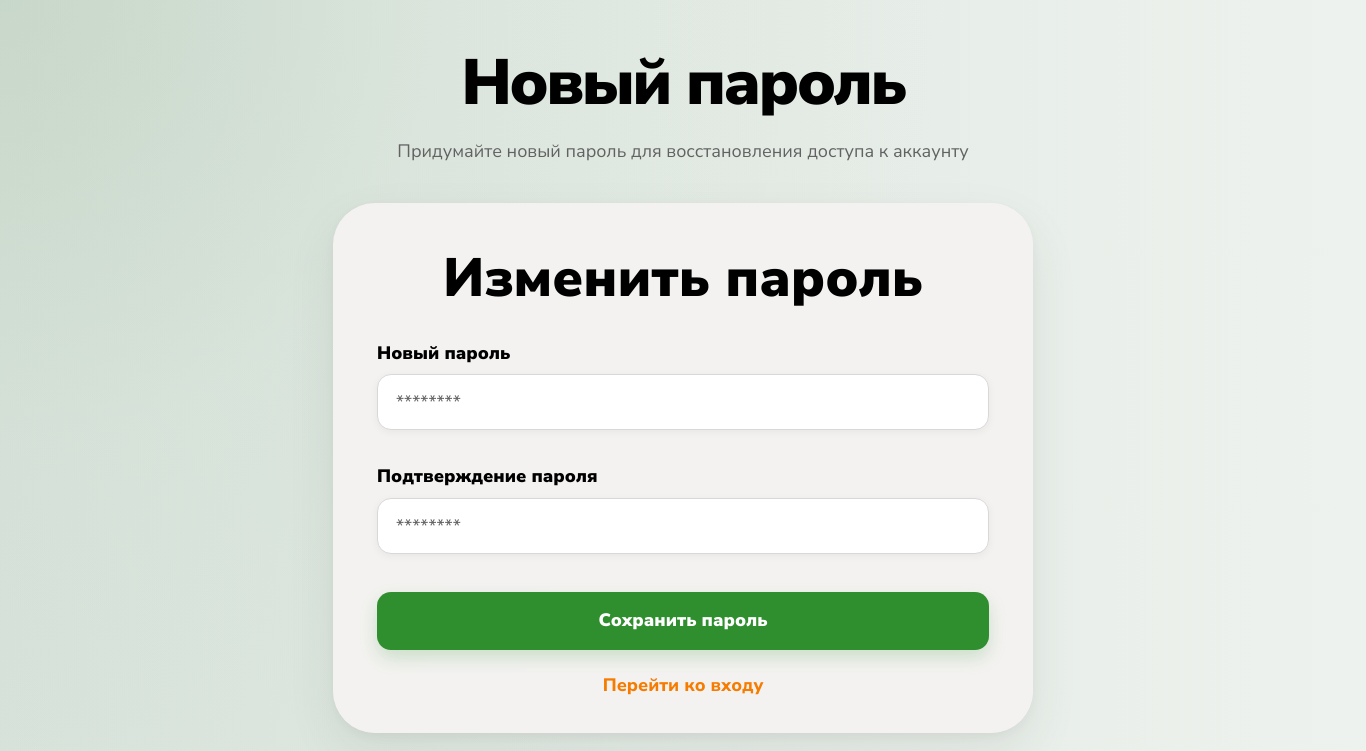
Test: ResetPasswordPage › shows password mismatch error
Type "12345678" into the password field labelled "Новый пароль" at (683, 402), box 377,374 -> 989,430
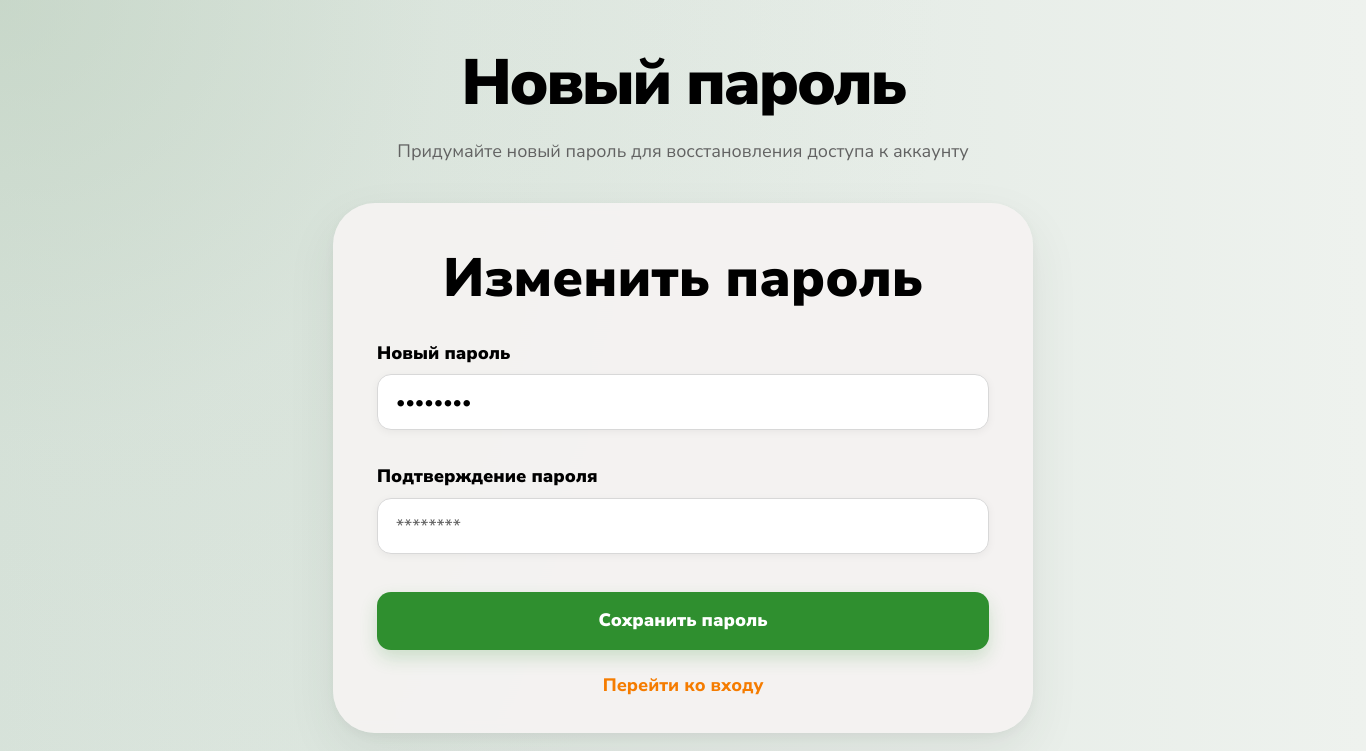
Type "87654321" into the password field labelled "Подтверждение пароля" at (683, 526), box 377,498 -> 989,554
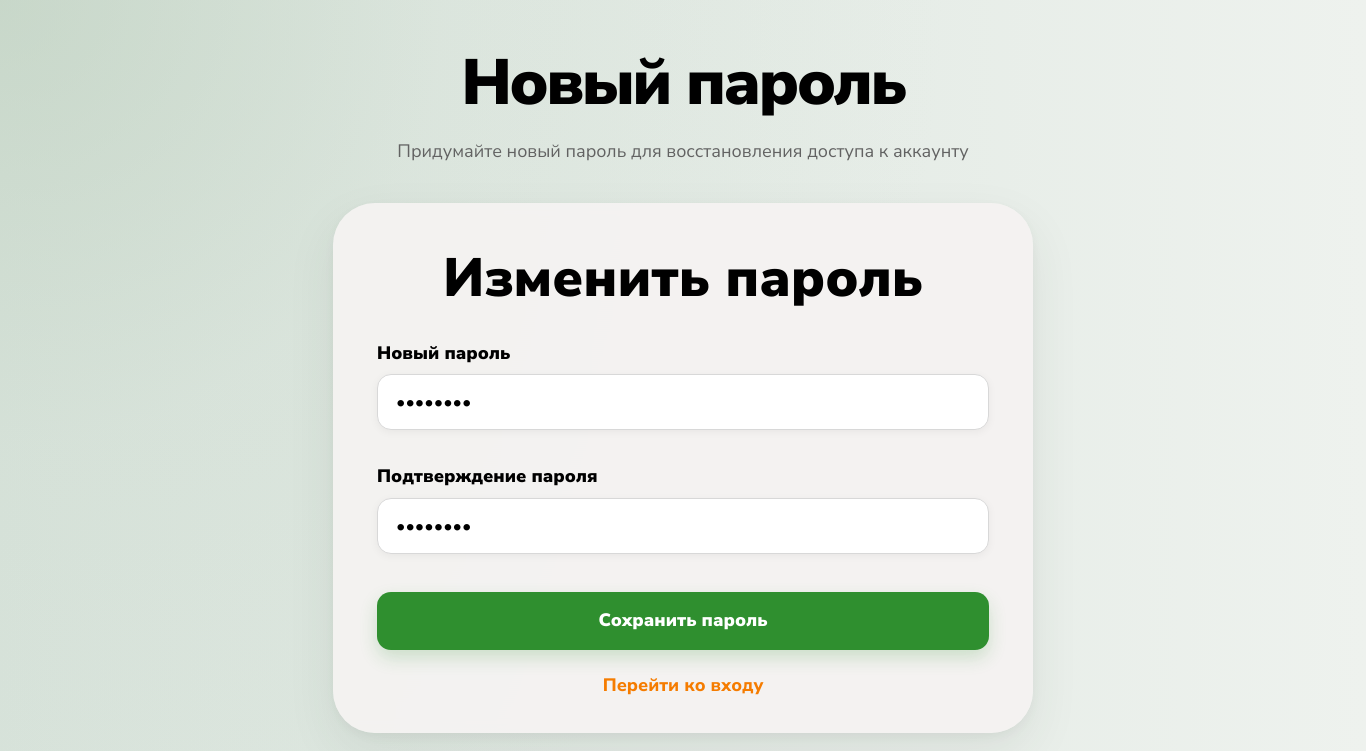
Click the button "Сохранить пароль" at (683, 621), box 377,592 -> 989,650
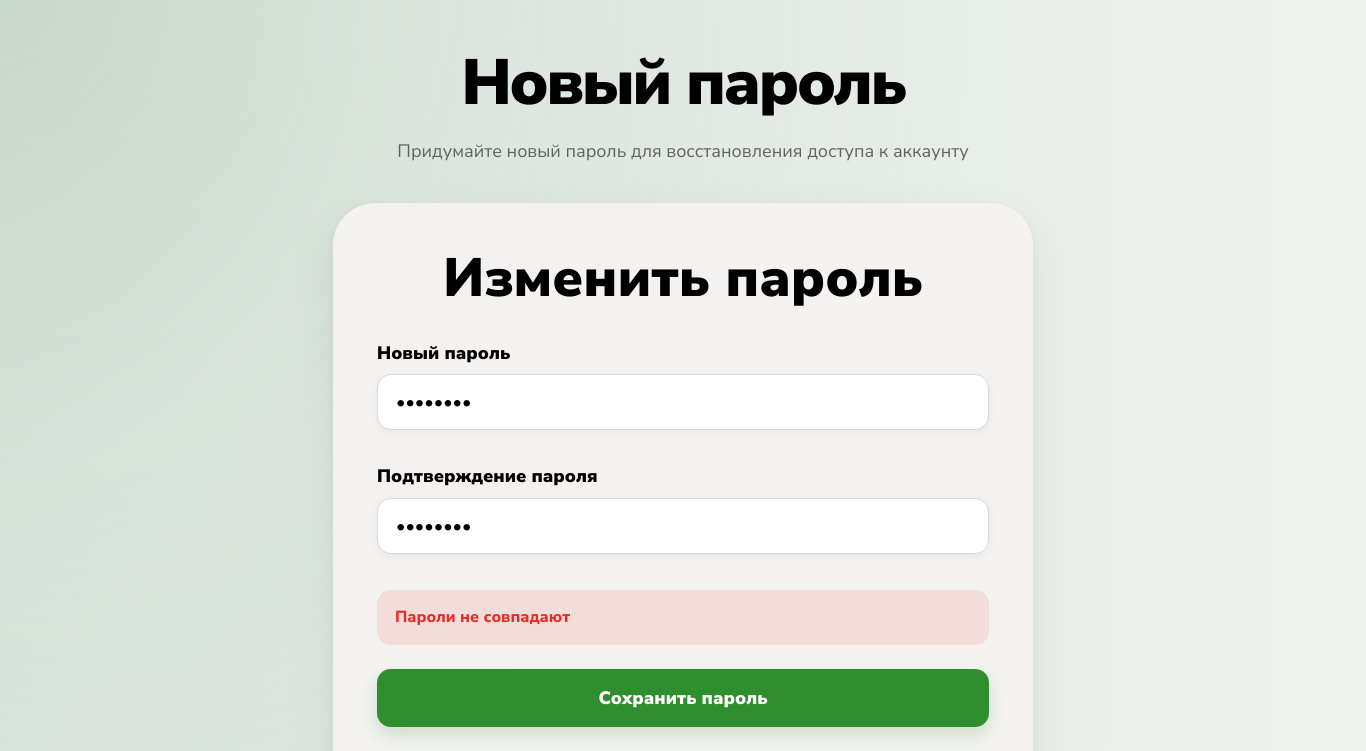
Result: the text "Пароли не совпадают" is shown at 377,590 -> 989,645
